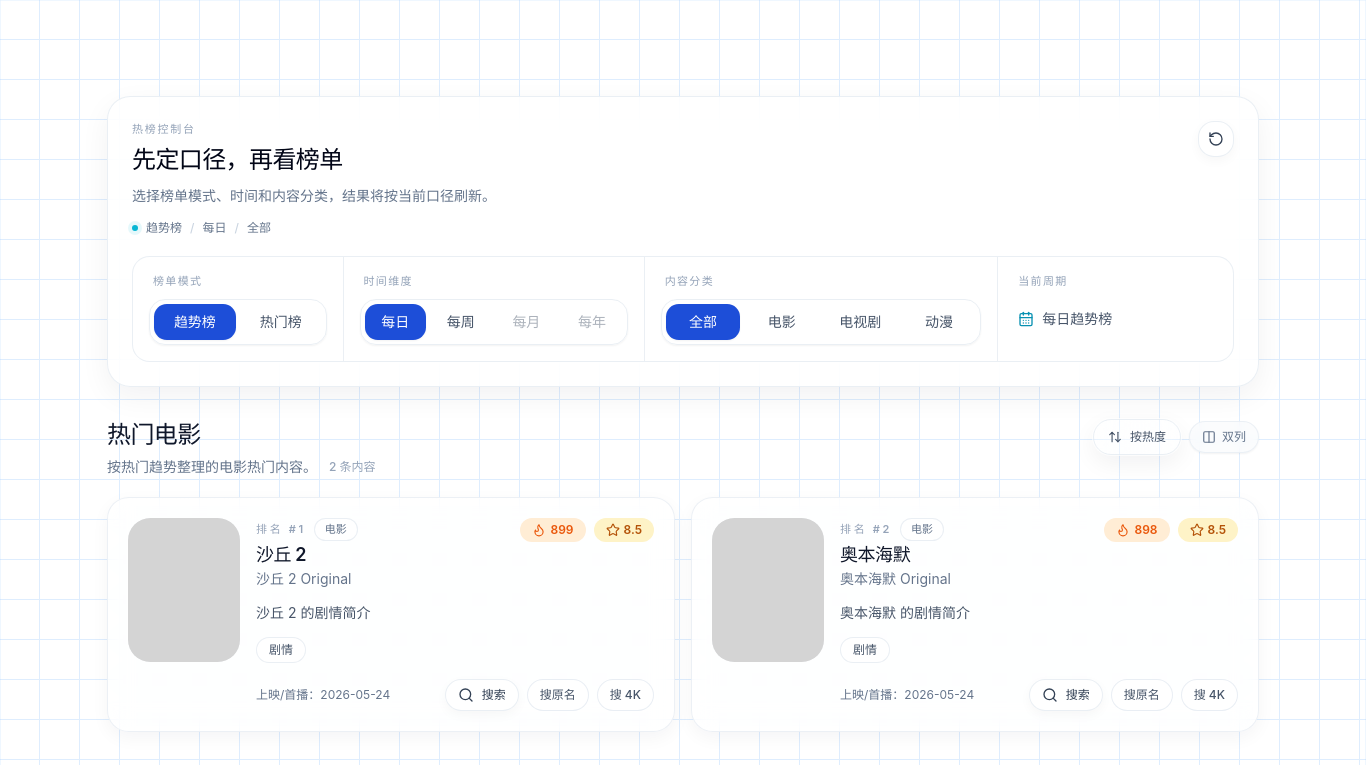
Test: HotPage › 排序旁支持切换单列和双列布局
This screenshot has width=1366, height=765.
Expected: the heading "沙丘 2" is shown, [256,544,306,564]
Click the button with aria-label "切换为单列布局": (1224, 437) [1189,421,1259,453]
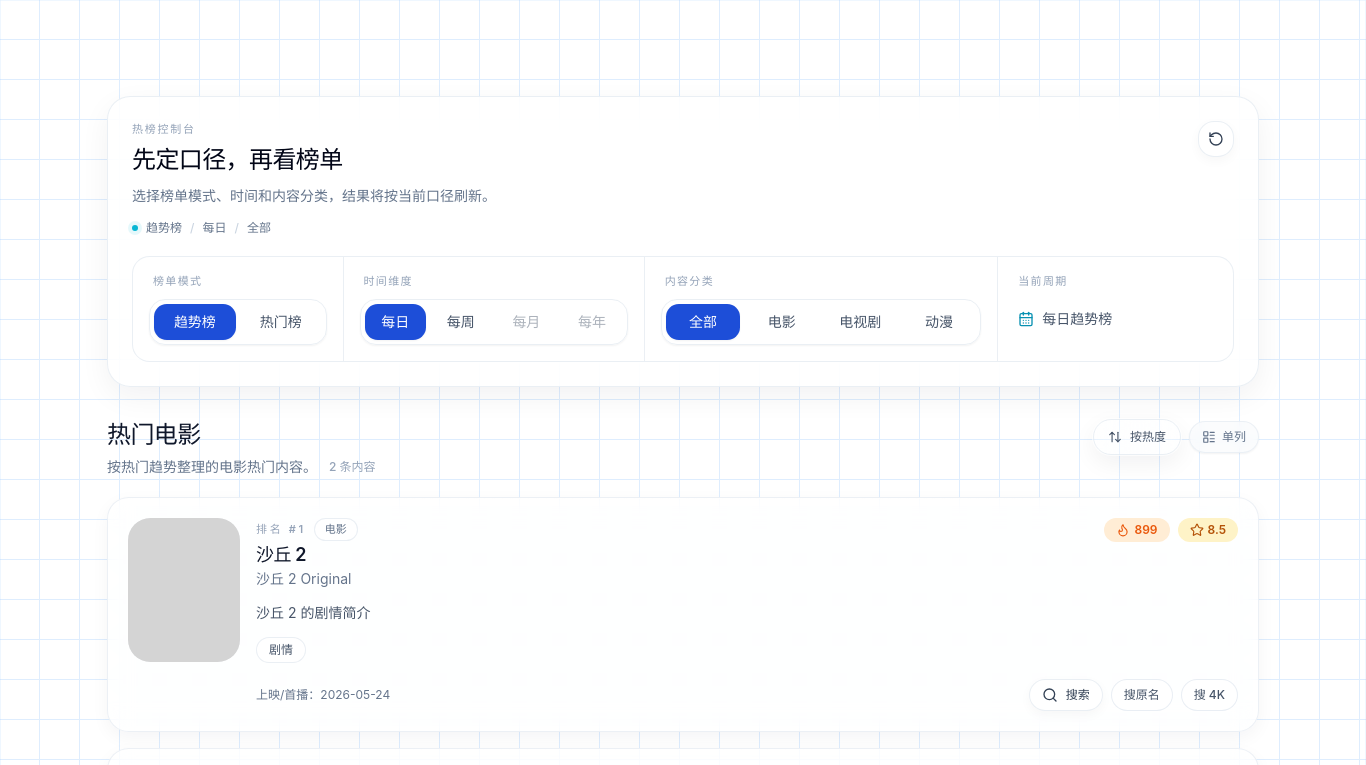
Expected: the button with test id "hot-layout-toggle" reads "单列"
Click the button with aria-label "切换为双列布局": (1224, 437) [1189,421,1259,453]
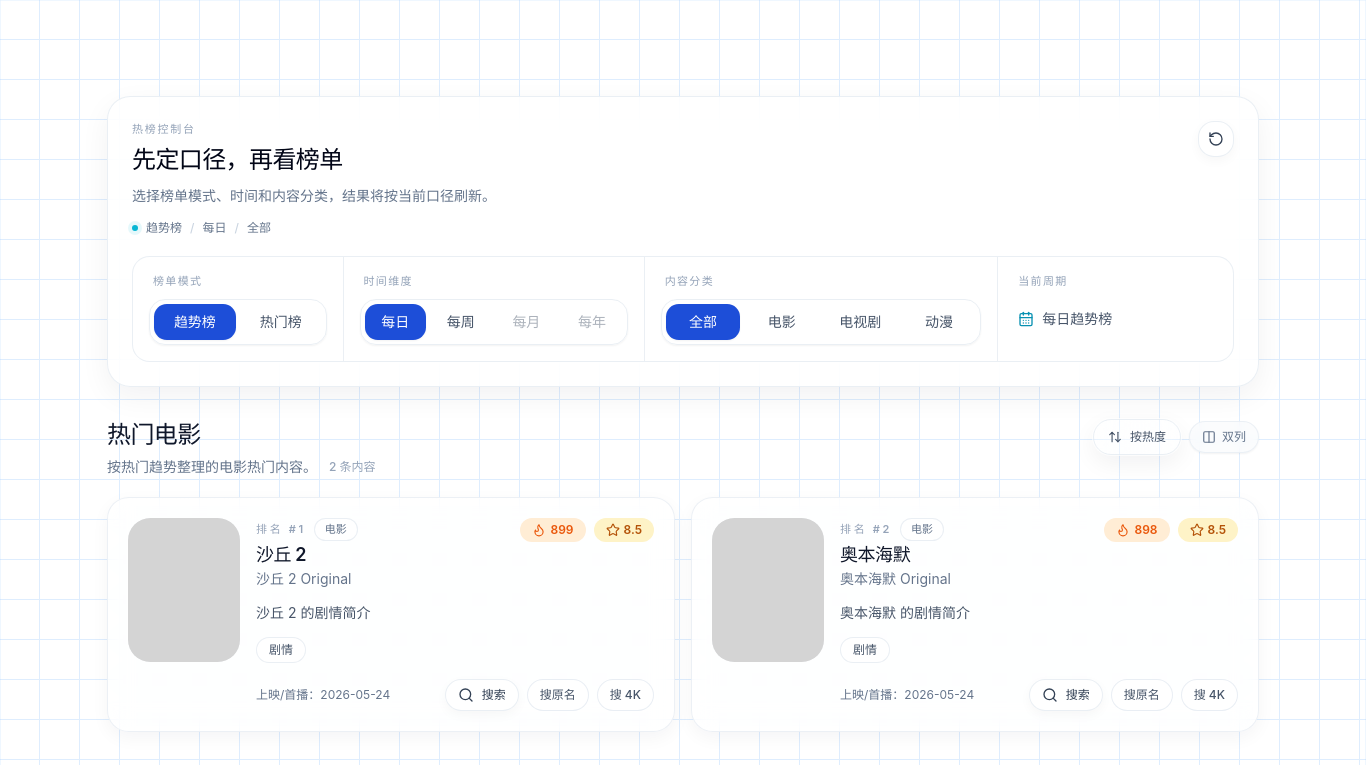
Expected: the button with test id "hot-layout-toggle" reads "双列", [1189,421,1259,453]
